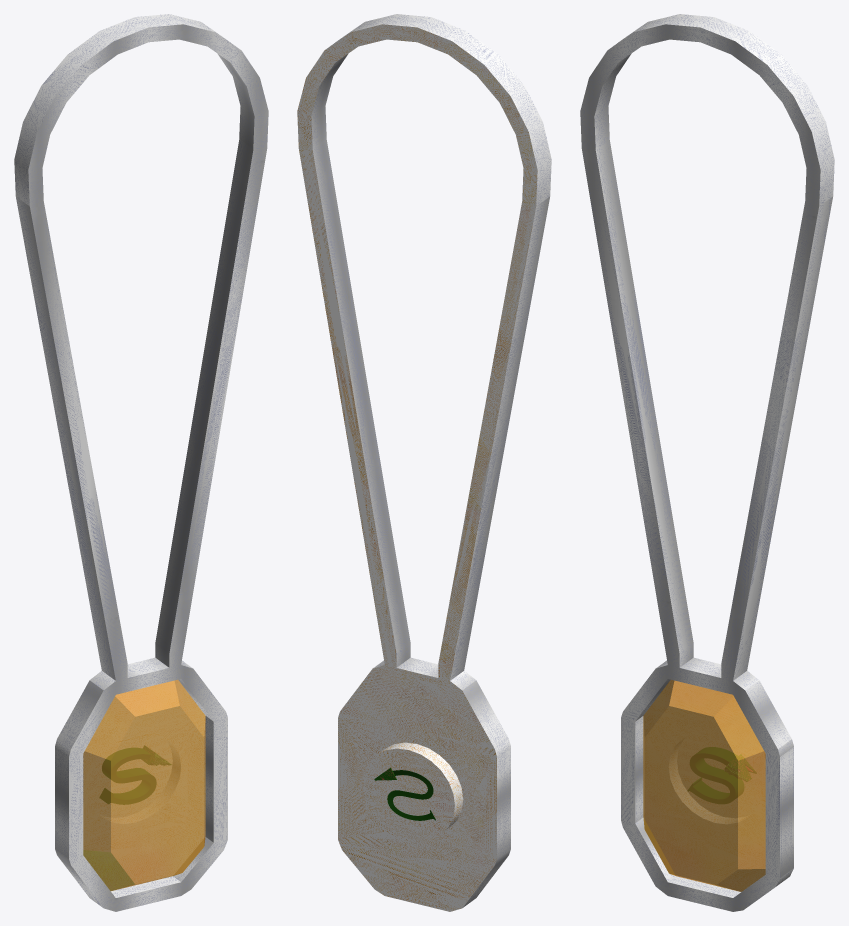
File: NecklaceModel.dae
The picture shows the model from 3 angles, left to right: view 1: azimuth 30°, elevation 25°; view 2: azimuth 150°, elevation 25°; view 3: azimuth 330°, elevation 25°; orthographic projection.
Visible parts, largest first — view 1: group_0 (×8), S; view 2: group_0 (×4), S; view 3: group_0 (×7), S.
Part boxes in pixels (x1,y1,x2,y2): group_0 (×8): (14,14,268,911); S: (100,748,156,804); group_0 (×4): (297,14,551,911); S: (387,770,435,820); group_0 (×7): (580,14,834,911); S: (688,747,743,803).
Size of the model in its own units: 6.6 by 1.52 by 22.99.
Materials: 10 (8 with a texture image).
